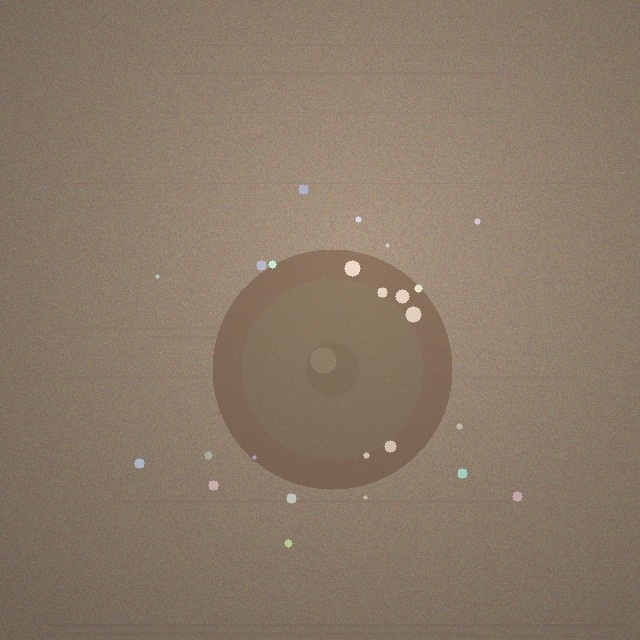overburn: (212, 249, 452, 489)
